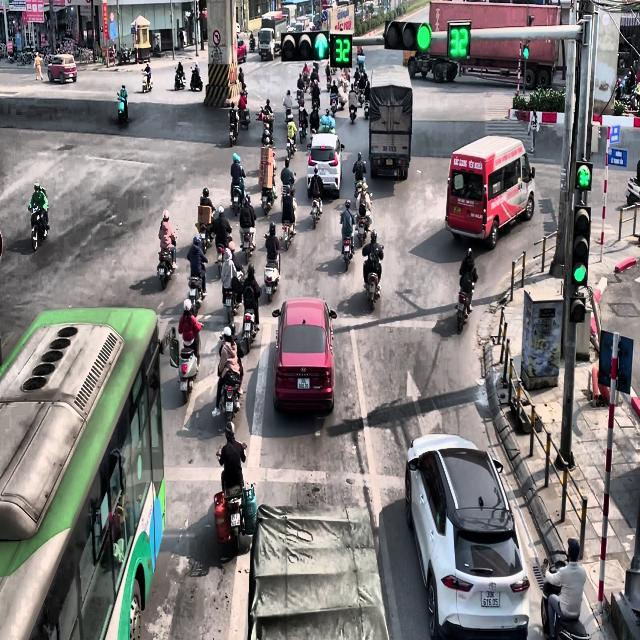lisence_plate: (480, 590, 500, 608), (296, 377, 310, 390), (381, 142, 397, 152), (318, 165, 328, 178), (454, 203, 462, 214), (386, 157, 394, 166)
